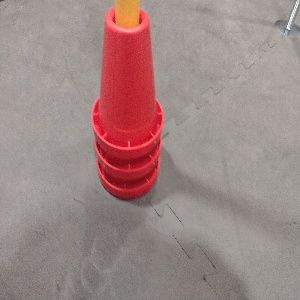Red_3: (89, 5, 167, 207)
